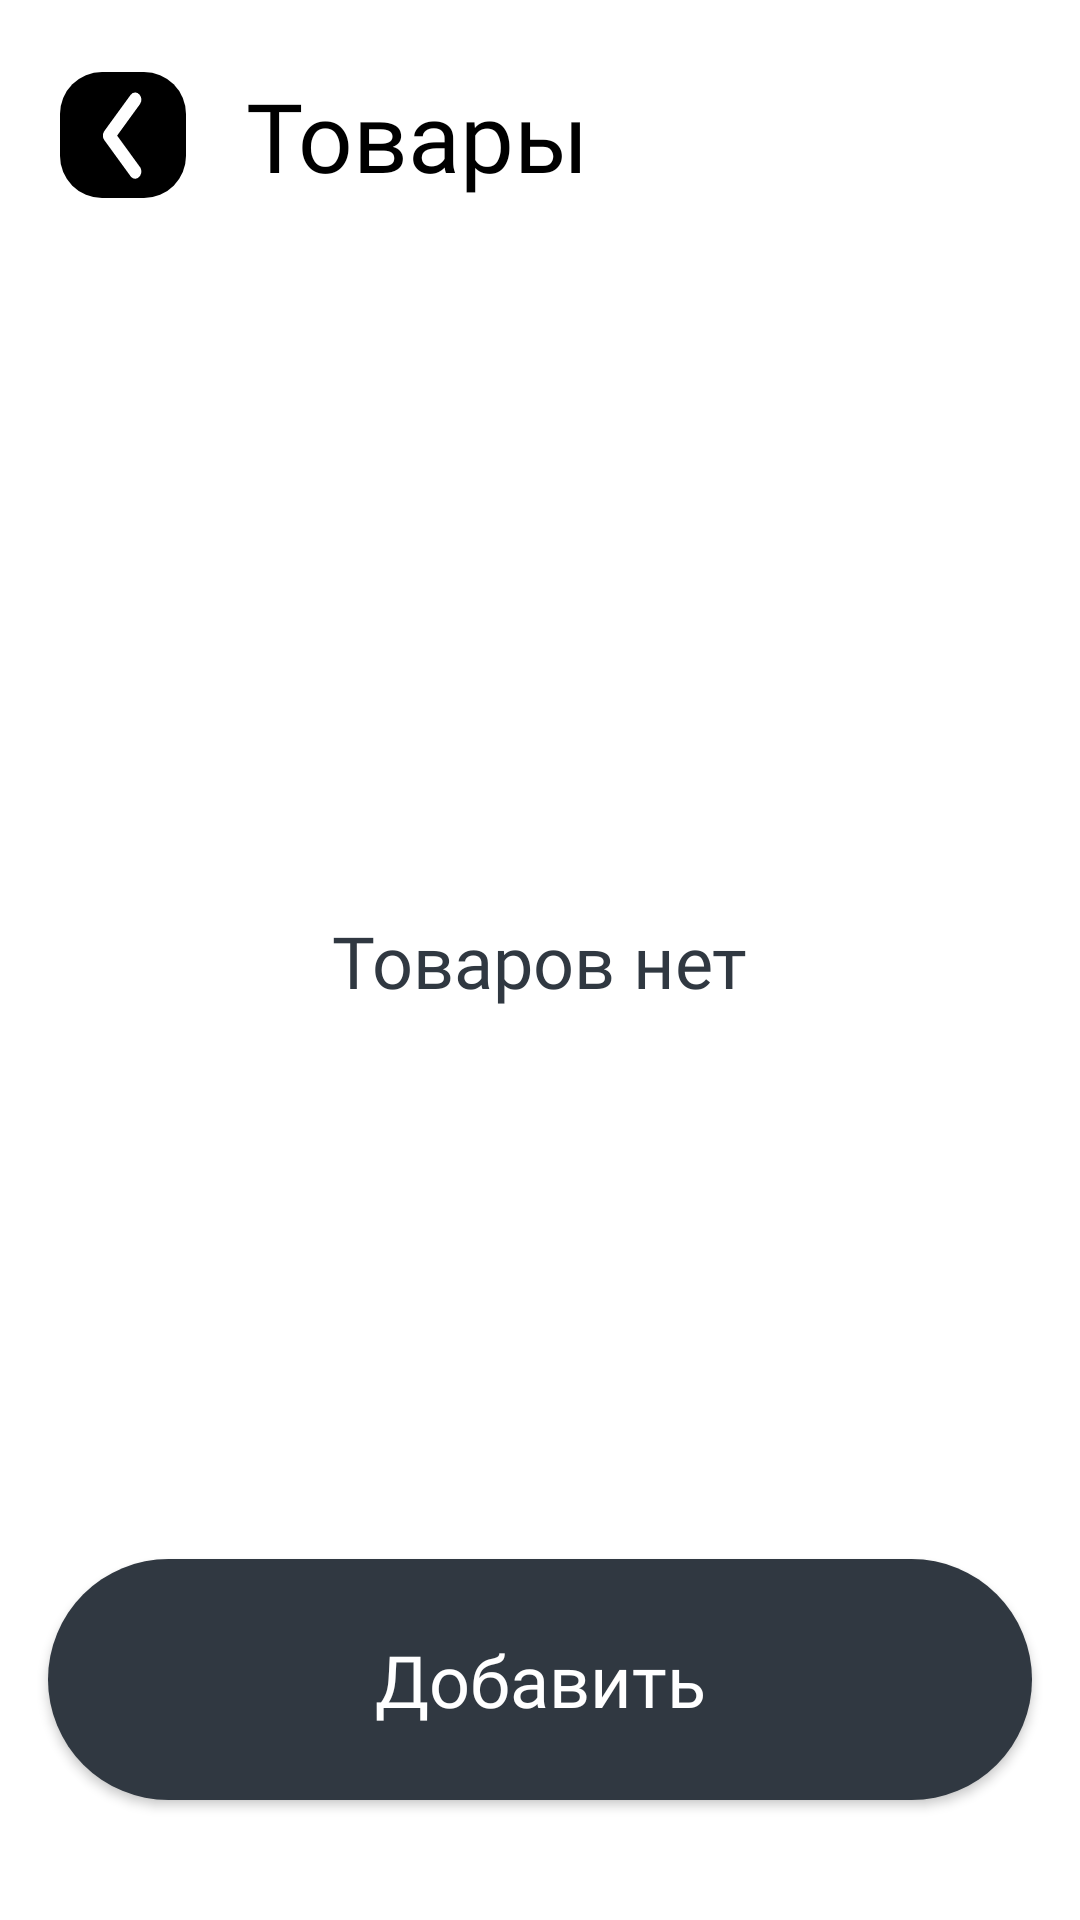

Where to tap for icons on this 1080×1920 app screen, as (x=x, y=y):
back: (x=123, y=135)
